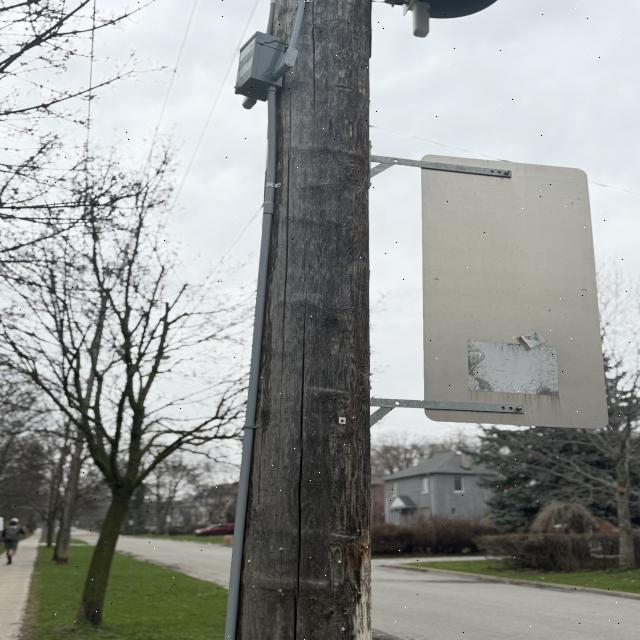Electrical Pole: (219, 0, 503, 640)
